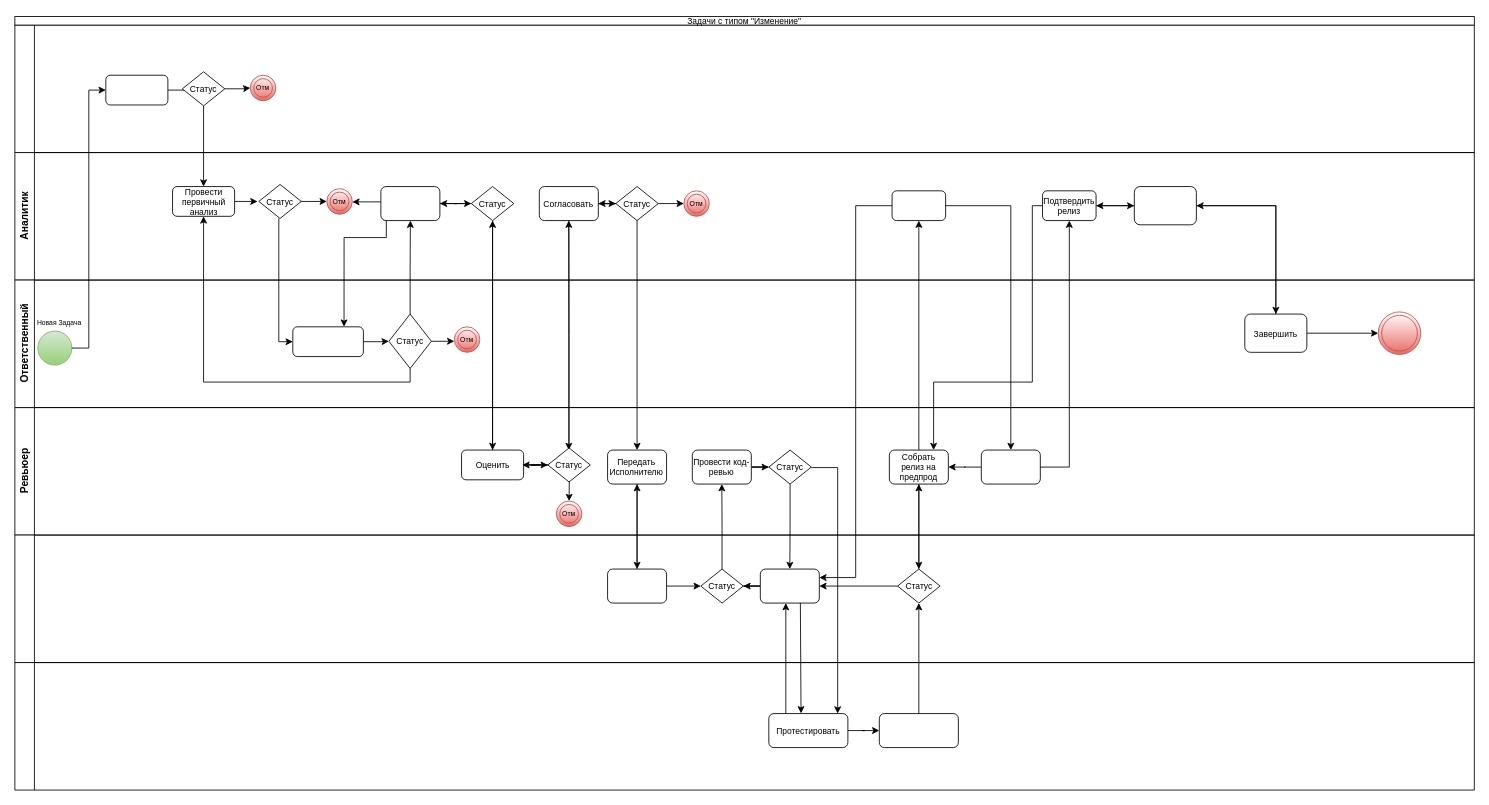
The diagram is 1489 pixels wide and 805 high, and some of its shapes have lost their labels. Here are the shapes that lost their labels. From the top down, the box of each, then its label:
(105, 74, 168, 105): Новая
(14, 24, 1474, 153): 1-я Линия
(380, 186, 440, 221): Подготовить требования
(891, 190, 946, 221): Выполнить приемку
(1133, 186, 1196, 225): Обновить документацию
(292, 326, 363, 357): Передать аналитику
(1377, 311, 1421, 354): Завершена
(980, 449, 1040, 484): Провести релиз
(607, 568, 667, 603): Реализовать
(14, 534, 1474, 663): Исполнитель
(759, 568, 819, 603): Доработать
(14, 662, 1474, 790): Тестировщик
(878, 713, 958, 748): Обновить инструкцию
